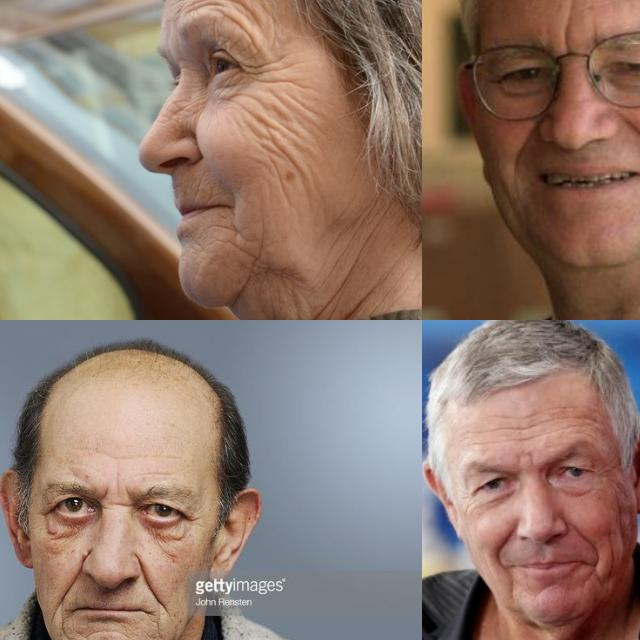bunny_line: (170, 95, 200, 119)
chin: (213, 215, 244, 247), (231, 268, 255, 300), (580, 562, 602, 590), (84, 624, 110, 640), (506, 573, 518, 603)
crows_feet: (241, 58, 271, 90), (590, 464, 616, 484), (37, 503, 55, 529), (459, 488, 477, 514), (180, 513, 198, 529)
forehead: (552, 404, 598, 430), (505, 412, 541, 442), (88, 448, 134, 464), (140, 466, 177, 482), (235, 19, 258, 43), (204, 0, 244, 12), (176, 0, 202, 14), (606, 0, 640, 6)
frown_line: (556, 22, 580, 59), (513, 448, 537, 464), (112, 472, 122, 496), (98, 484, 110, 502)
gummy_smile: (508, 112, 542, 170), (492, 524, 518, 568), (573, 524, 603, 560), (619, 110, 640, 158), (64, 558, 85, 604), (136, 561, 158, 597)
masseter: (339, 217, 371, 257), (276, 90, 308, 118), (256, 115, 280, 151), (600, 526, 618, 572), (284, 148, 308, 182), (250, 223, 268, 257)
sad_smile: (51, 611, 71, 640), (150, 616, 163, 638)
smoker_lines: (187, 176, 210, 200)
